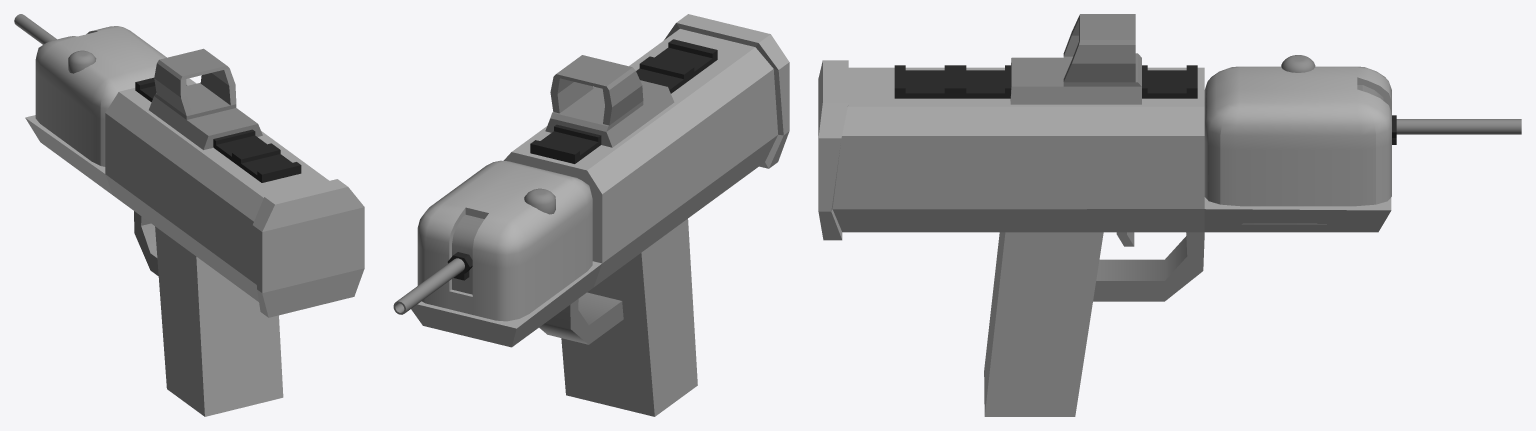
3 renders of one model, left to right at view 1: azimuth 30°, elevation 25°; view 2: azimuth 150°, elevation 25°; view 3: azimuth 270°, elevation 25°, orthographic. The views are drawn at different scales.
Visible parts, largest first — view 1: Grip, Gunhouse, Holo, Rail, Trigger, Barrel, Sight; view 2: Grip, Gunhouse, Holo, Rail, Trigger, Barrel, Sight; view 3: Grip, Gunhouse, Holo, Rail, Trigger, Barrel.
Part boxes in pixels (bbox=[...]): Grip: bbox=[25, 78, 364, 416]; Gunhouse: bbox=[35, 26, 166, 166]; Holo: bbox=[149, 48, 262, 149]; Rail: bbox=[135, 77, 301, 182]; Trigger: bbox=[134, 211, 158, 275]; Barrel: bbox=[14, 14, 56, 44]; Sight: bbox=[68, 50, 96, 73]; Grip: bbox=[411, 14, 789, 416]; Gunhouse: bbox=[417, 160, 592, 321]; Holo: bbox=[545, 55, 674, 147]; Rail: bbox=[530, 39, 717, 163]; Trigger: bbox=[539, 292, 623, 344]; Barrel: bbox=[393, 258, 464, 314]; Sight: bbox=[524, 188, 555, 214]; Grip: bbox=[818, 60, 1391, 416]; Gunhouse: bbox=[1204, 66, 1391, 224]; Holo: bbox=[1010, 14, 1141, 104]; Rail: bbox=[894, 65, 1197, 98]; Trigger: bbox=[1093, 232, 1204, 301]; Barrel: bbox=[1396, 119, 1521, 134].
Size of the model in its own units: 142 by 405 by 703.
